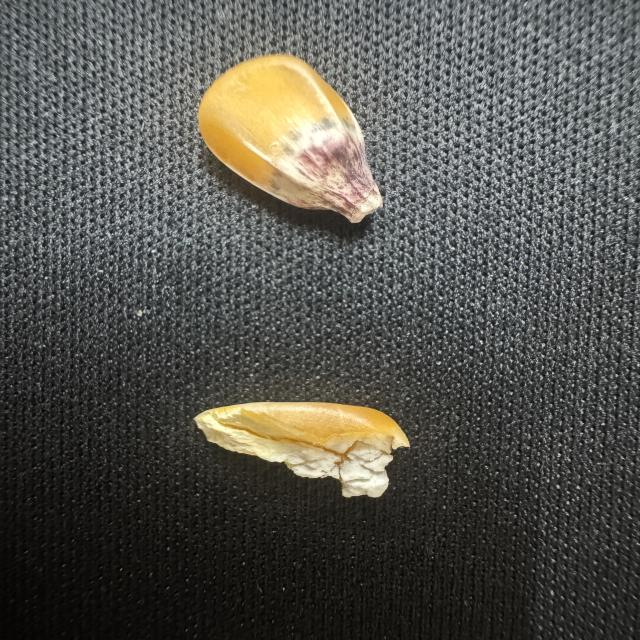Bad-Seed: (182, 46, 399, 255), (191, 397, 411, 508)
